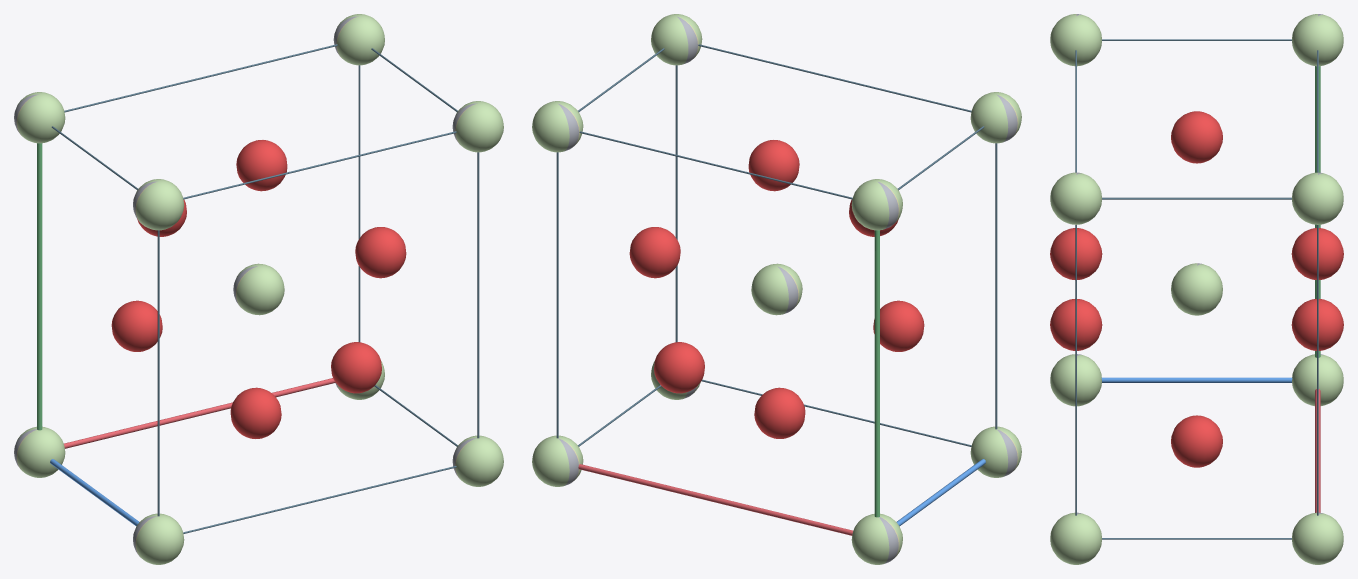
File: rutile.glb
3 renders of one model, left to right at view 1: azimuth 30°, elevation 25°; view 2: azimuth 150°, elevation 25°; view 3: azimuth 270°, elevation 25°, orthographic.
Parts seen in each view (by area): view 1: Ti · Ti · 0.91 (×8), O · O · 1 (×5), Ô mạng và các trục a, b, c; view 2: Ti · Ti · 0.91 (×8), O · O · 1 (×5), Ô mạng và các trục a, b, c; view 3: Ti · Ti · 0.91 (×9), O · O · 1 (×6), Ô mạng và các trục a, b, c.
Boxes of the visible parts, box(x1,y1,x2,y2) form: Ti · Ti · 0.91 (×8): box(17, 14, 503, 564); O · O · 1 (×5): box(111, 140, 406, 438); Ô mạng và các trục a, b, c: box(37, 44, 479, 533); Ti · Ti · 0.91 (×8): box(532, 14, 1021, 564); O · O · 1 (×5): box(629, 140, 924, 438); Ô mạng và các trục a, b, c: box(556, 44, 997, 535); Ti · Ti · 0.91 (×9): box(1050, 14, 1343, 564); O · O · 1 (×6): box(1050, 111, 1343, 467); Ô mạng và các trục a, b, c: box(1075, 39, 1320, 539).
Bounding box in the file's own units: 5.23 × 5.23 × 3.6.
